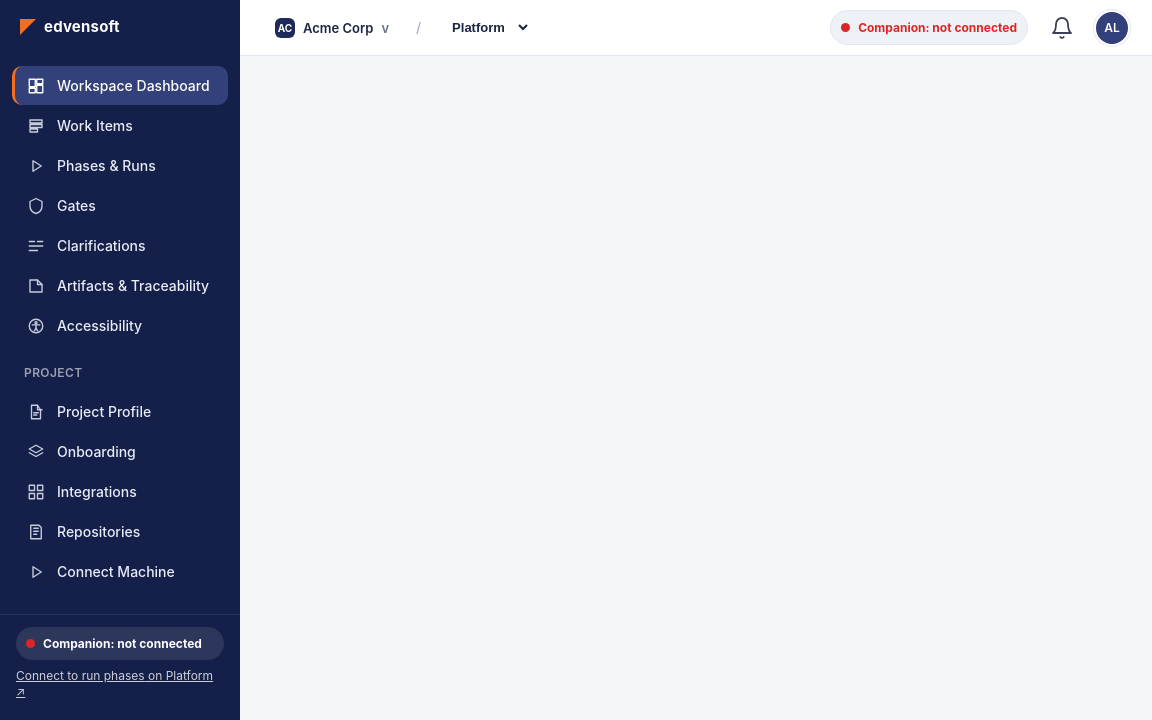
AppShell account menu — logout › opens the account menu and shows the signed-in user
Click the button with aria-label "account menu for ada": (1112, 28) [1096,12,1128,44]
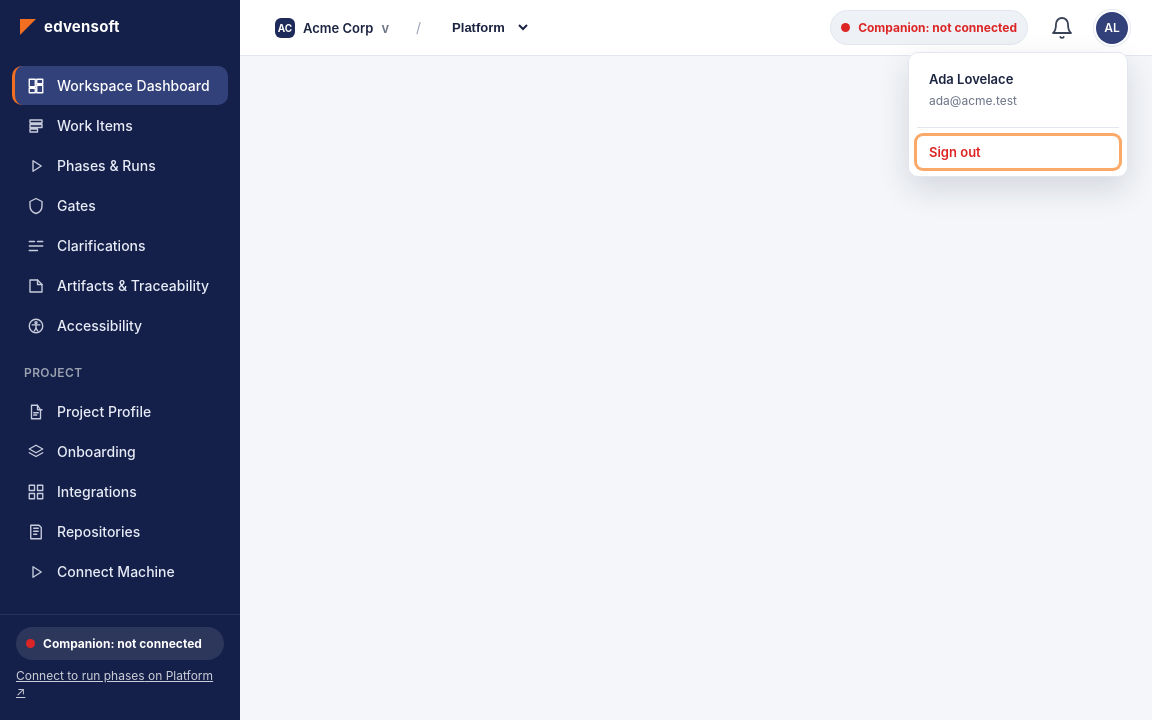
Expected: the menu item "Sign out" is shown, [917,136,1119,168]
Expected: the text "ada@acme.test" is shown, [929,92,1017,108]
